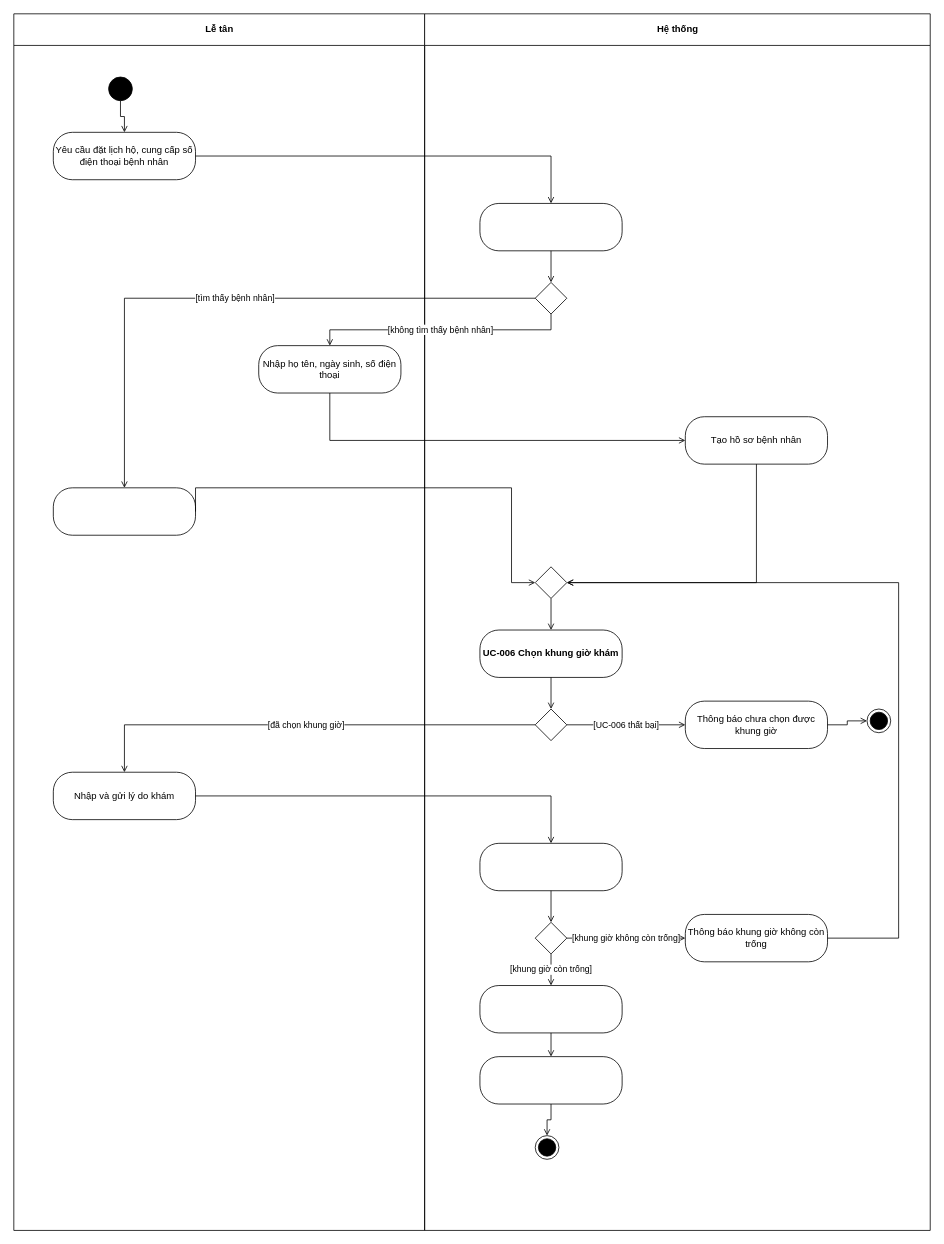
Image size: 944x1244. Some labels were removed from this diagram. Here are the shapes that lost their labels. From the top down, the box of each, then its label:
(479, 203, 622, 251): Tìm bệnh nhân theo số điện thoại
(53, 487, 196, 535): Xác nhận bệnh nhân cần đặt lịch
(479, 843, 622, 891): Kiểm tra khung giờ còn trống
(479, 985, 622, 1033): Tạo lịch hẹn "Đã xác nhận"
(479, 1056, 622, 1104): Hiển thị thông tin lịch hẹn
